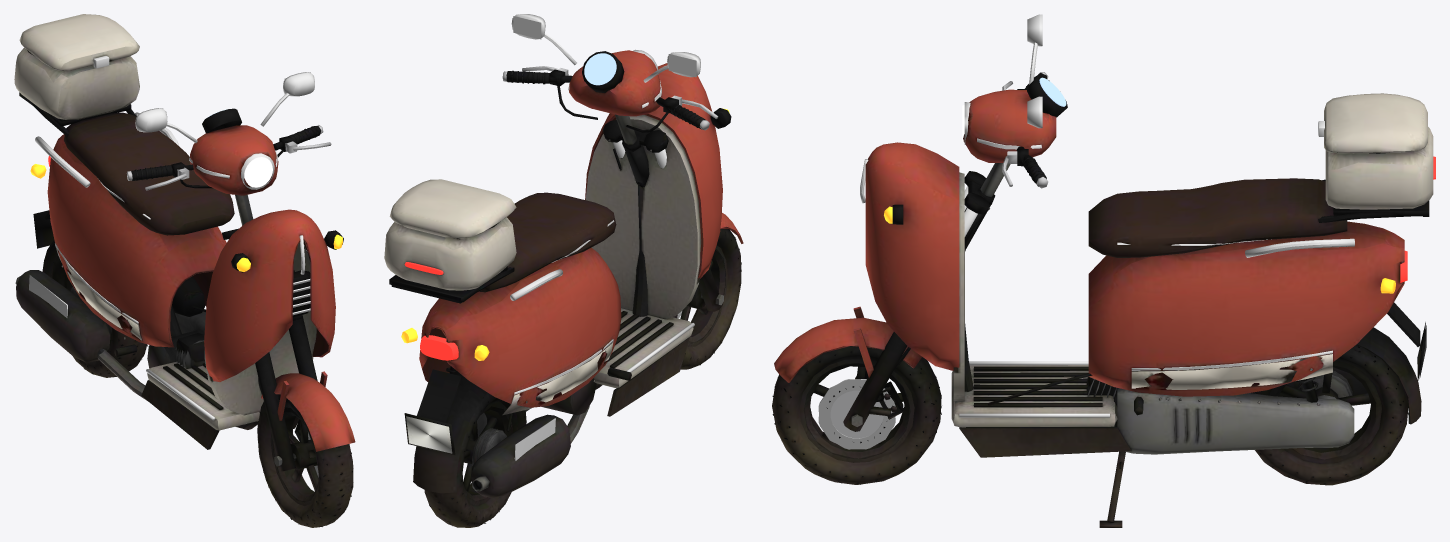
Rendered from motor-scooter.glb.
3 views of the same model, side by side, from view 1: azimuth 30°, elevation 25°; view 2: azimuth 150°, elevation 25°; view 3: azimuth 270°, elevation 25° (orthographic). The views are drawn at different scales.
Visible parts, largest first — view 1: body, fork_mesh, wheel_F_mesh, lid_mesh, fork_fittings, fittings, wheel_R_mesh; view 2: body, fork_mesh, lid_mesh, wheel_R_mesh, wheel_F_mesh, fork_fittings, fittings; view 3: body, fork_mesh, wheel_F_mesh, wheel_R_mesh, lid_mesh, fittings, wheel_F_fittings, fork_fittings.
Part boxes in pixels (<box>): body: <box>14,47,343,449</box>; fork_mesh: <box>131,108,355,471</box>; wheel_F_mesh: <box>257,394,353,527</box>; lid_mesh: <box>19,14,139,71</box>; fork_fittings: <box>126,72,331,190</box>; fittings: <box>29,112,342,420</box>; wheel_R_mesh: <box>51,252,147,377</box>; body: <box>384,63,731,497</box>; fork_mesh: <box>506,50,743,311</box>; lid_mesh: <box>389,179,516,238</box>; wheel_R_mesh: <box>424,392,526,527</box>; wheel_F_mesh: <box>672,229,741,369</box>; fork_fittings: <box>502,14,718,168</box>; fittings: <box>401,108,729,460</box>; body: <box>865,127,1433,457</box>; fork_mesh: <box>774,72,1067,431</box>; wheel_F_mesh: <box>772,346,941,484</box>; wheel_R_mesh: <box>1251,345,1408,485</box>; lid_mesh: <box>1324,93,1427,153</box>; fittings: <box>860,156,1435,417</box>; wheel_F_fittings: <box>818,379,895,449</box>; fork_fittings: <box>962,14,1066,236</box>.
Size of the model in its own units: 0.7119 by 1.3 by 1.85.
Materials: 9 (1 with a texture image).
